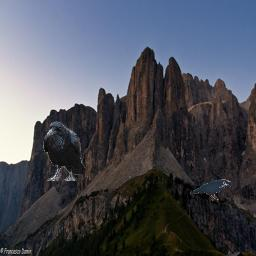Crow: (43, 121, 85, 181), (189, 179, 232, 201)
